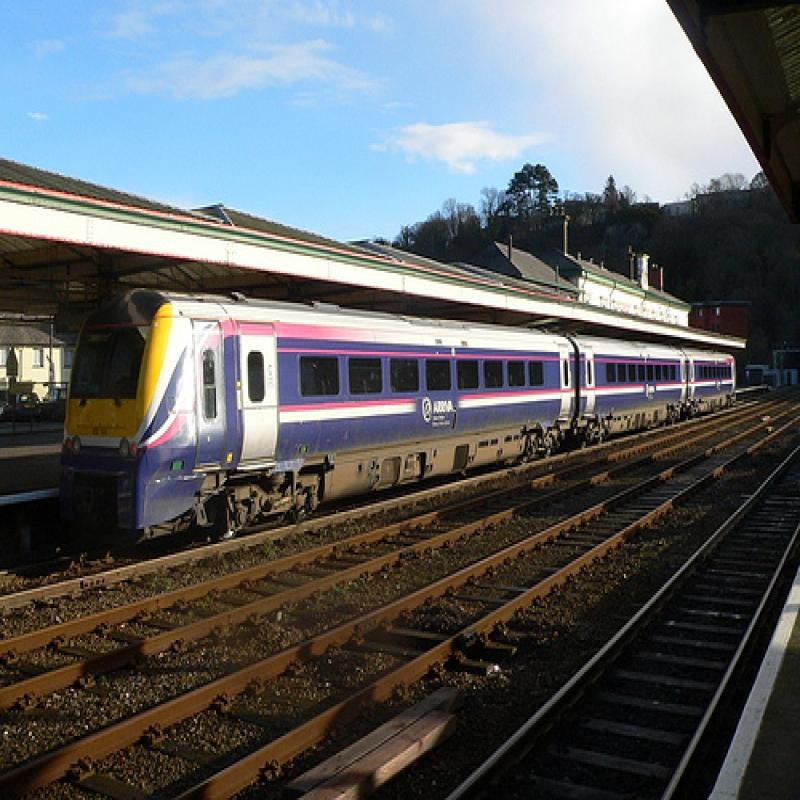train: (56, 278, 739, 556)
